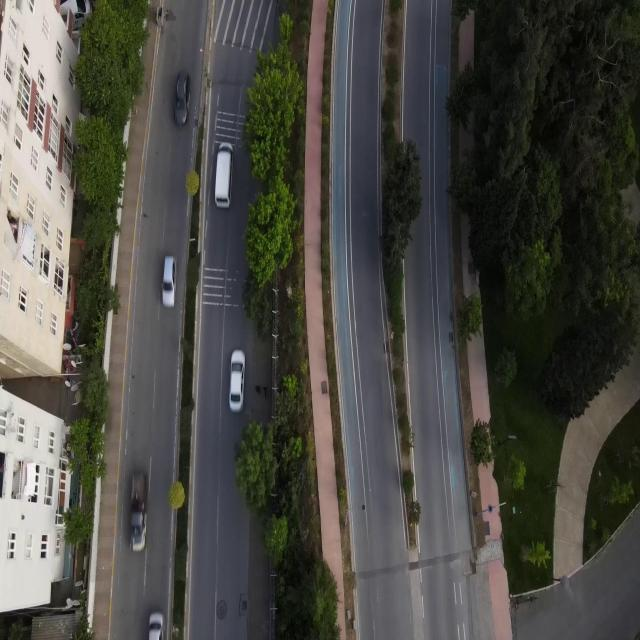p3rson: (263, 386, 267, 402), (255, 386, 261, 394)
